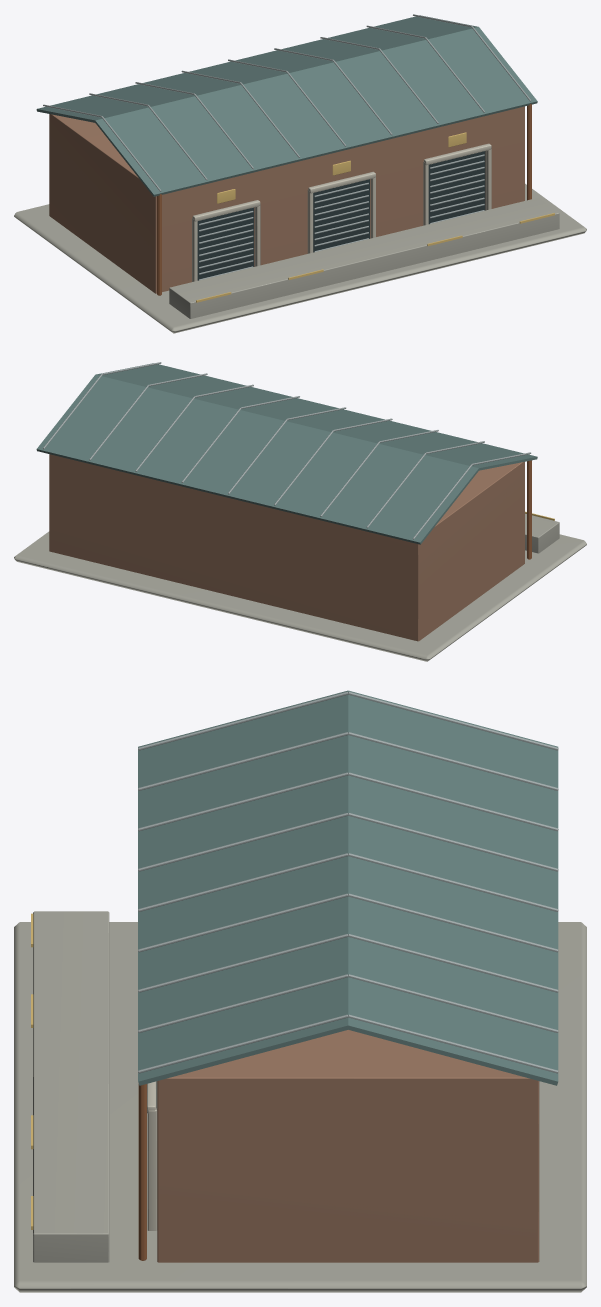
Rendered from RailServiceBay.glb.
3 views of the same model, one above another, from view 1: azimuth 30°, elevation 25°; view 2: azimuth 150°, elevation 25°; view 3: azimuth 270°, elevation 25° (orthographic). The views are drawn at different scales.
Visible parts, largest first — view 1: Pitched seam roof, Brick shed, Freight platform, Loading apron, Roll-up loading door, Roll-up loading door.002, Roll-up loading door.001, Gutter drain, Door lintel.002, Door lintel, Door lintel.001, Gutter drain.001 (+1 smaller); view 2: Brick shed, Pitched seam roof, Loading apron, Freight platform, Gutter drain; view 3: Pitched seam roof, Brick shed, Loading apron, Freight platform, Gutter drain.001, Door jamb.005, Roof seam.003, Roof seam, Roof seam.004, Roof seam.005, Roof seam.008, Roof seam.009 (+12 smaller).
Boxes of the visible parts, x1,y1,x2,y2 form: Pitched seam roof: (36,15,537,196); Brick shed: (49,106,524,293); Freight platform: (169,197,559,318); Loading apron: (14,183,586,333); Roll-up loading door: (197,207,254,280); Roll-up loading door.002: (428,151,485,224); Roll-up loading door.001: (313,179,369,252); Gutter drain: (157,194,161,295); Door lintel.002: (424,143,491,165); Door lintel: (192,200,260,221); Door lintel.001: (308,171,375,193); Gutter drain.001: (527,104,531,200); Brick shed: (49,454,524,641); Pitched seam roof: (36,363,537,544); Loading apron: (14,531,586,661); Freight platform: (525,513,559,553); Gutter drain: (527,460,531,559); Pitched seam roof: (138,690,558,1085); Brick shed: (157,1030,539,1262); Loading apron: (14,922,586,1292); Freight platform: (33,911,109,1262); Gutter drain.001: (138,1084,146,1260); Door jamb.005: (147,1108,157,1230); Roof seam.003: (348,732,558,790); Roof seam: (138,692,348,750); Roof seam.004: (138,772,348,831); Roof seam.005: (348,772,558,831); Roof seam.008: (138,853,348,911); Roof seam.009: (348,853,558,911).
Bounding box in the file's own units: 18 × 6 × 12.
